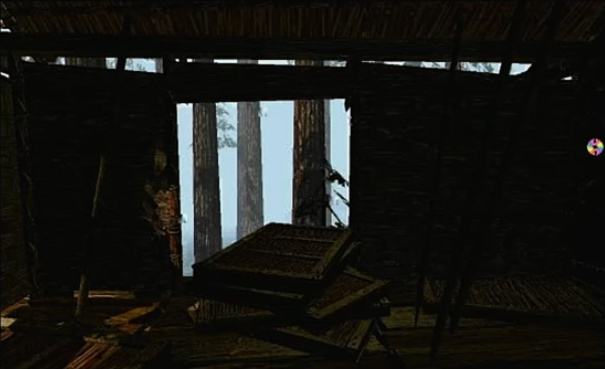Waiting: (584, 133, 605, 158)
